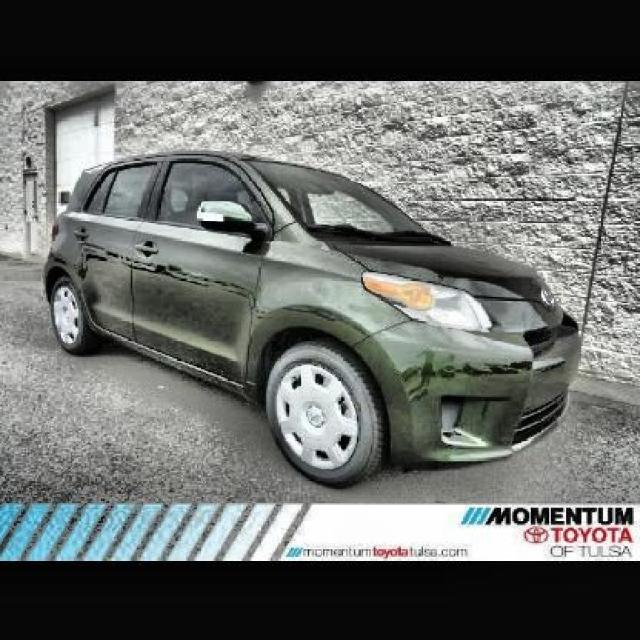black: (46, 158, 528, 460)
